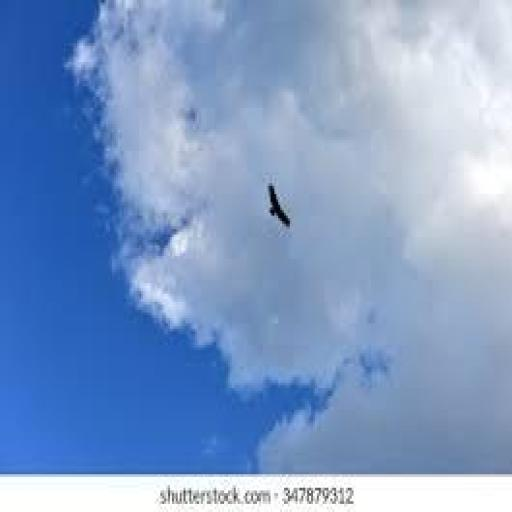birds: (262, 179, 300, 238)
